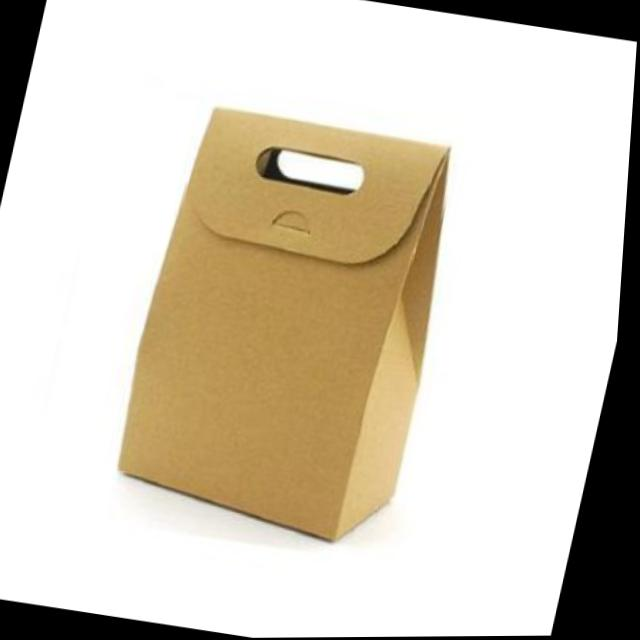box: (90, 90, 499, 565)
